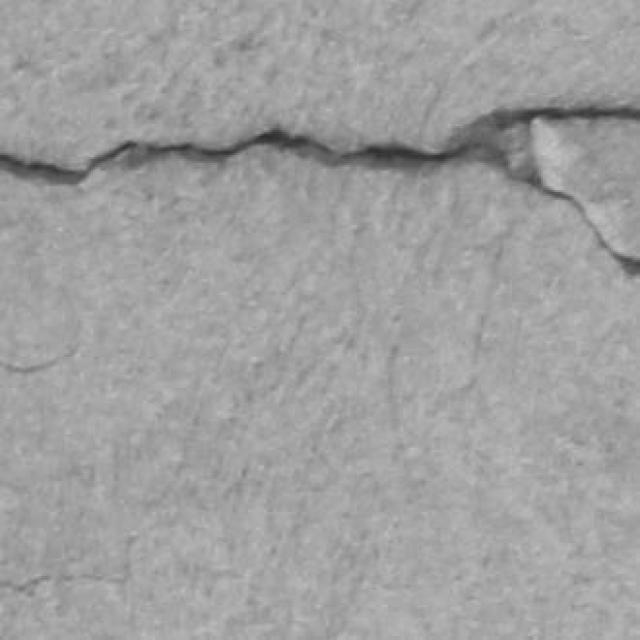crack: (0, 105, 639, 275)
